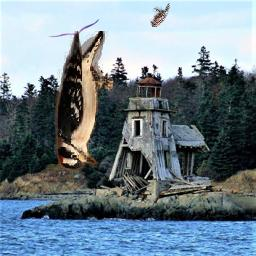Sparrow: (150, 3, 170, 27)
Woodpecker: (56, 31, 115, 173)
